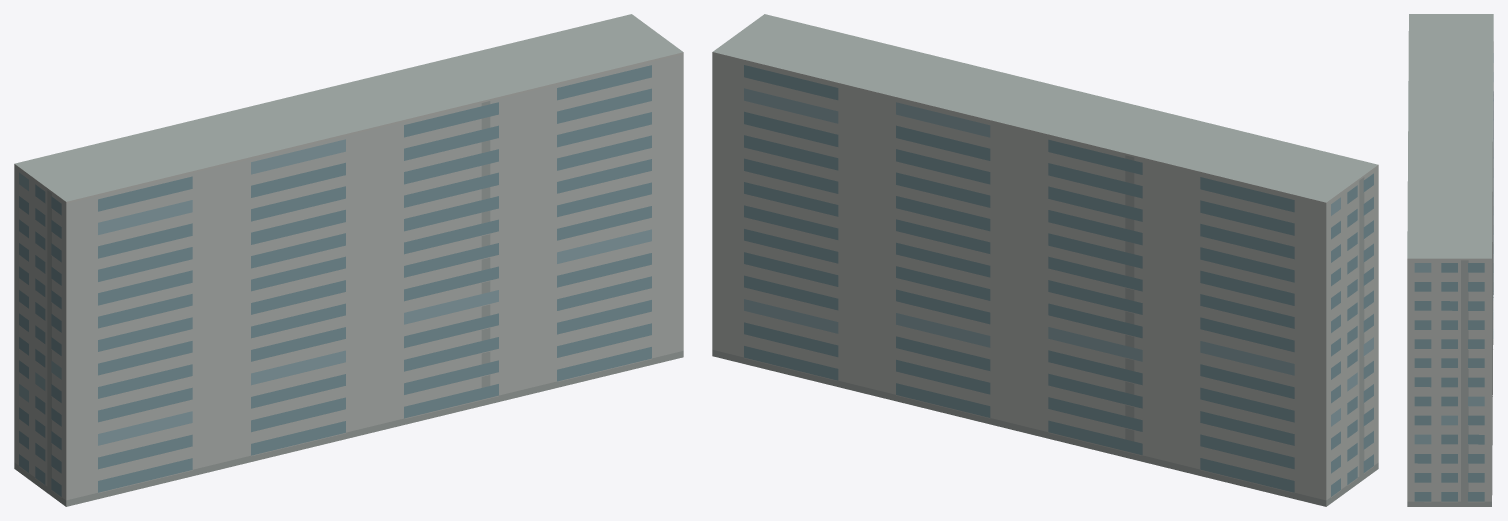
The model's file is residential-d120d4bb-448b-41d5-941d-3caf2bf0cf25.glb.
The picture shows the model from 3 angles, left to right: view 1: azimuth 30°, elevation 25°; view 2: azimuth 150°, elevation 25°; view 3: azimuth 270°, elevation 25°; orthographic projection. The views are drawn at different scales.
Parts seen in each view (by area): view 1: residential-d120d4bb-448b-41d5-941d-3caf2bf0cf25.tmp; view 2: residential-d120d4bb-448b-41d5-941d-3caf2bf0cf25.tmp; view 3: residential-d120d4bb-448b-41d5-941d-3caf2bf0cf25.tmp.
Part boxes in pixels (box(x1,y1,x2,y2)): residential-d120d4bb-448b-41d5-941d-3caf2bf0cf25.tmp: box(14, 14, 683, 506); residential-d120d4bb-448b-41d5-941d-3caf2bf0cf25.tmp: box(712, 14, 1378, 506); residential-d120d4bb-448b-41d5-941d-3caf2bf0cf25.tmp: box(1407, 14, 1493, 506).
Bounding box in the file's own units: 83.89 × 39.65 × 12.51.
